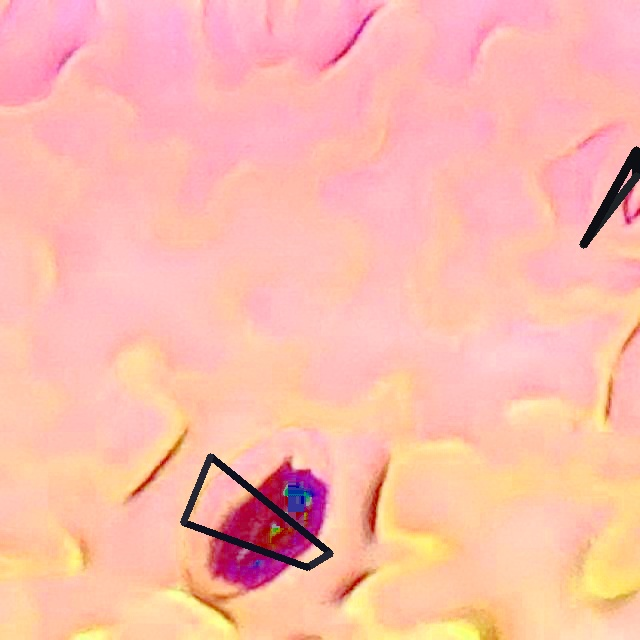open: (180, 453, 333, 570), (580, 147, 639, 247)
